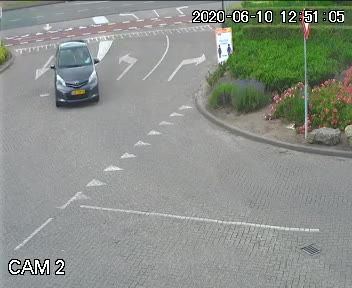car: (50, 39, 100, 116)
